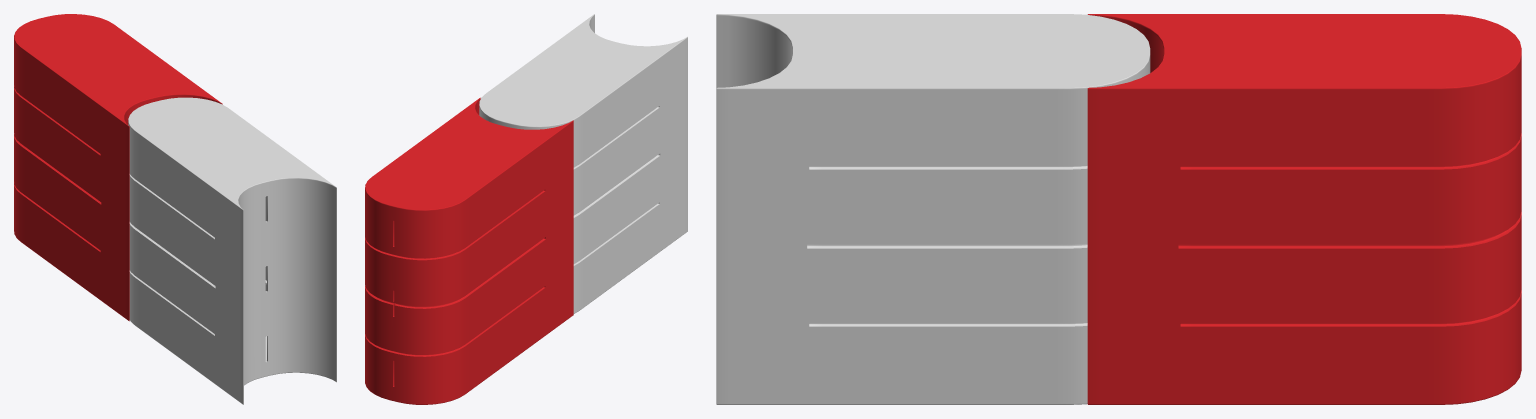
File: tecpro_barriers.glb
3 views of the same model, side by side, from view 1: azimuth 30°, elevation 25°; view 2: azimuth 150°, elevation 25°; view 3: azimuth 270°, elevation 25° (orthographic). The views are drawn at different scales.
Visible parts, largest first — view 1: Object_3, Object_2; view 2: Object_2, Object_3; view 3: Object_2, Object_3.
Boxes of the visible parts, <box> form: Object_3: <box>128,97,336,404</box>; Object_2: <box>14,14,222,321</box>; Object_2: <box>365,97,573,404</box>; Object_3: <box>479,14,687,313</box>; Object_2: <box>1087,14,1521,404</box>; Object_3: <box>716,14,1150,404</box>.
Size of the model in its own units: 0.6029 by 1.2 by 2.76.
Materials: 2 (2 with a texture image).
